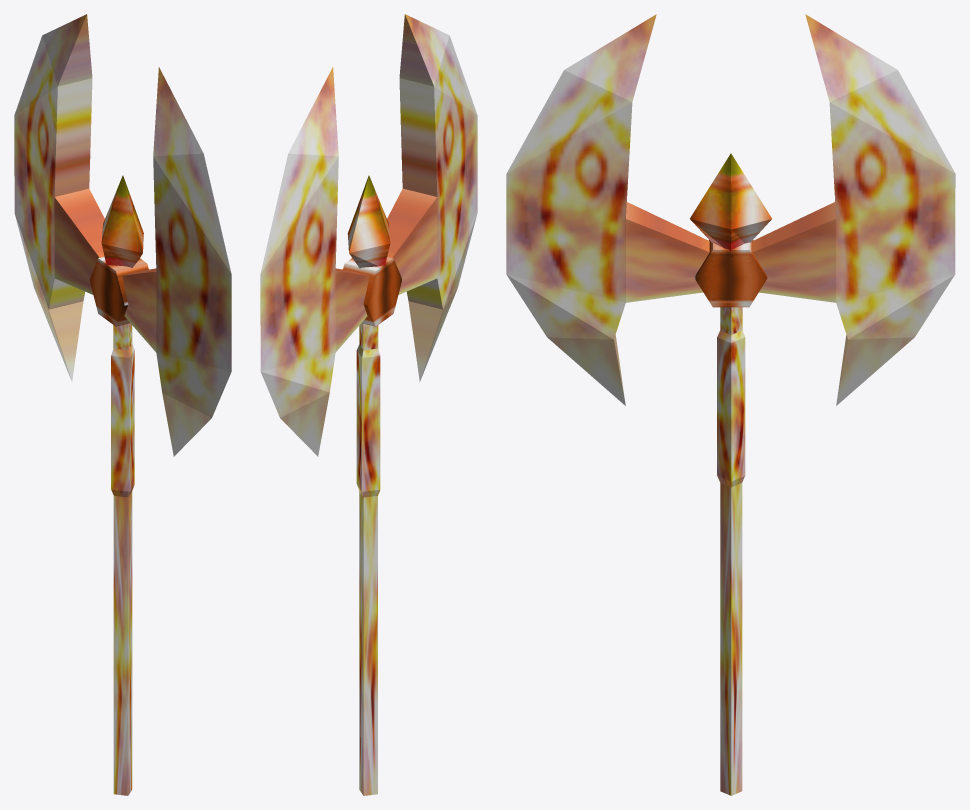
The model's file is heavyaxeman02_3.obj.
The picture shows the model from 3 angles, left to right: view 1: azimuth 30°, elevation 25°; view 2: azimuth 150°, elevation 25°; view 3: azimuth 270°, elevation 25°; orthographic projection. The views are drawn at different scales.
Parts seen in each view (by area): view 1: heavyaxeman02_3; view 2: heavyaxeman02_3; view 3: heavyaxeman02_3.
Boxes of the visible parts, x1,y1,x2,y2 form: heavyaxeman02_3: (14, 14, 231, 795); heavyaxeman02_3: (260, 14, 477, 795); heavyaxeman02_3: (506, 14, 955, 795).
Size of the model in its own units: 0.1638 by 2.77 by 1.45.
